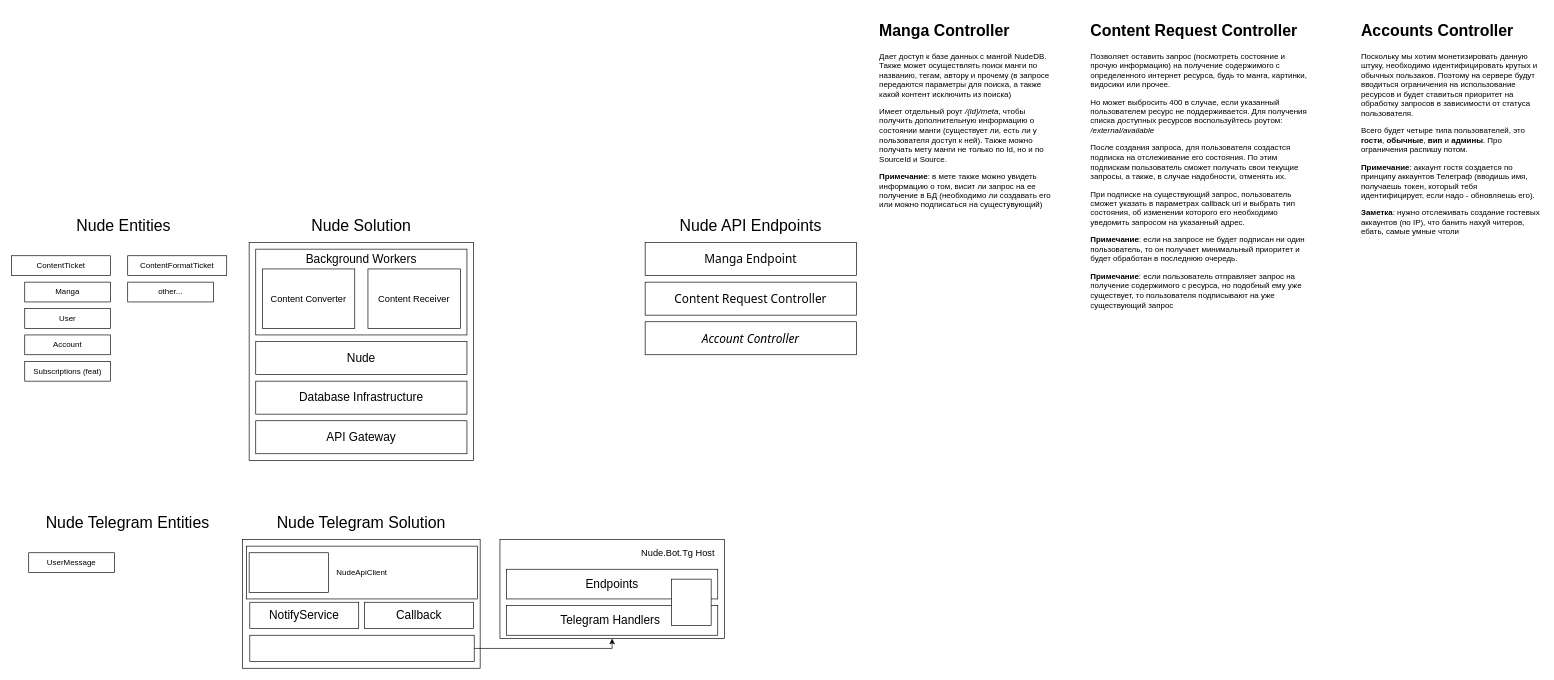
Some shapes in this 1554 by 680 pixel diagram are drawn without their labels. The shapes that lost their labels are listed below. From the top down, each one's centre as x and y in pixels, then its label:
At pixel 288 572: "NudeUserManager".
At pixel 691 601: "Resolver".
At pixel 361 648: "Host".
